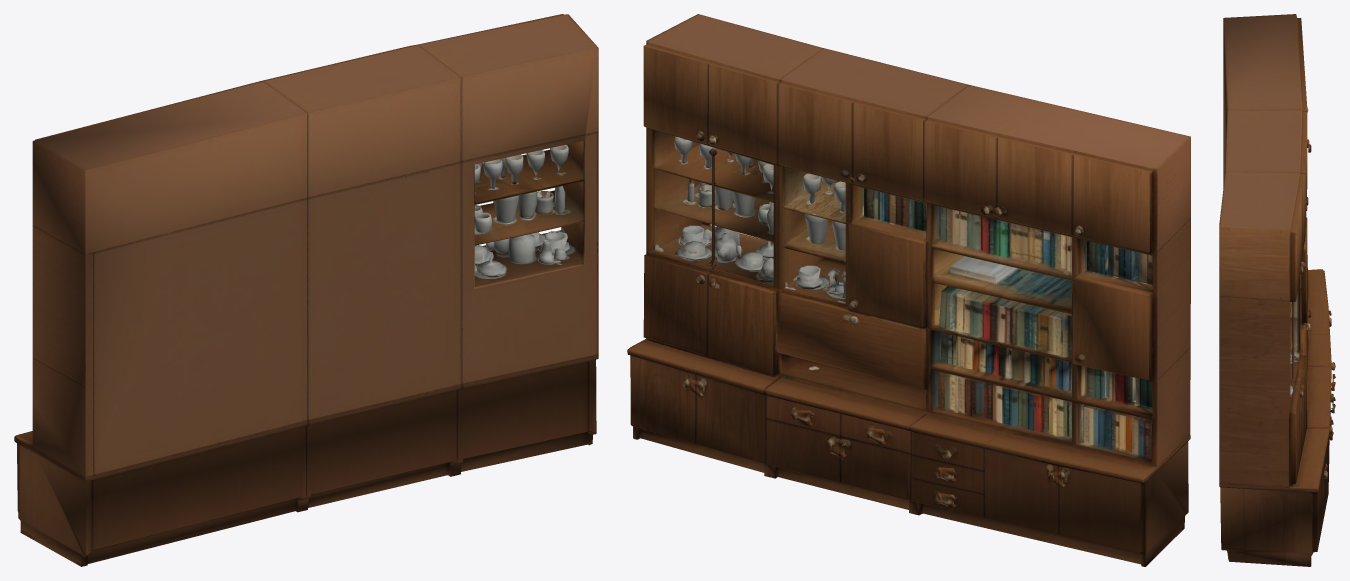
The model's file is stenka.glb.
3 views of the same model, side by side, from view 1: azimuth 30°, elevation 25°; view 2: azimuth 150°, elevation 25°; view 3: azimuth 270°, elevation 25° (orthographic). The views are drawn at different scales.
Visible parts, largest first — view 1: tripo_node_0d310a1d-1bf4-4b1f-ba46-a9b75; view 2: tripo_node_0d310a1d-1bf4-4b1f-ba46-a9b75; view 3: tripo_node_0d310a1d-1bf4-4b1f-ba46-a9b75.
Part boxes in pixels (bbox=[...]): tripo_node_0d310a1d-1bf4-4b1f-ba46-a9b75: bbox=[14, 14, 598, 566]; tripo_node_0d310a1d-1bf4-4b1f-ba46-a9b75: bbox=[627, 14, 1190, 566]; tripo_node_0d310a1d-1bf4-4b1f-ba46-a9b75: bbox=[1219, 14, 1335, 566].
Bounding box in the file's own units: 0.998 × 0.7129 × 0.2246.
1 material, 1 textured.
